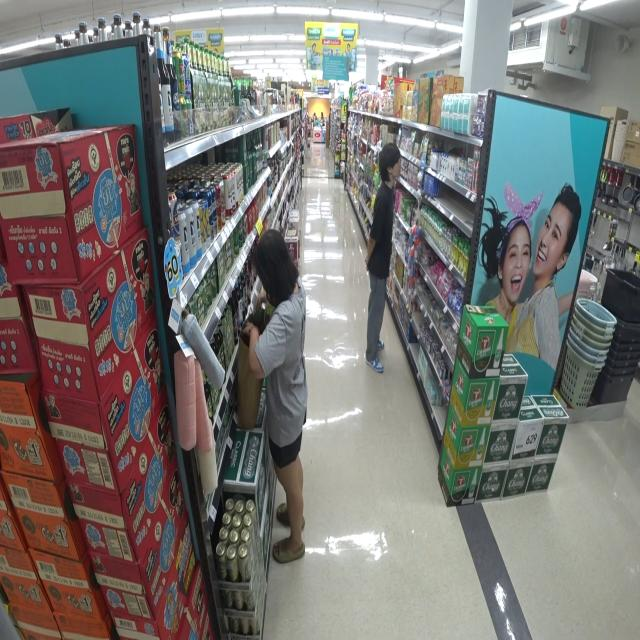shoplifting: (234, 230, 309, 559)
